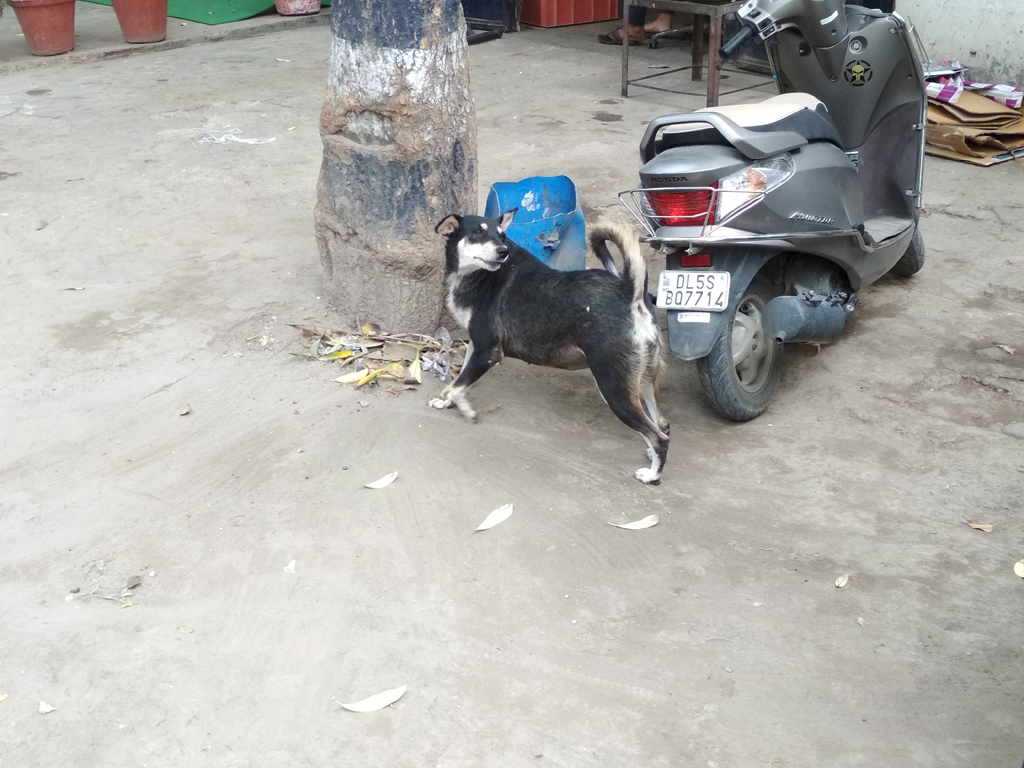dog: (435, 207, 671, 486)
